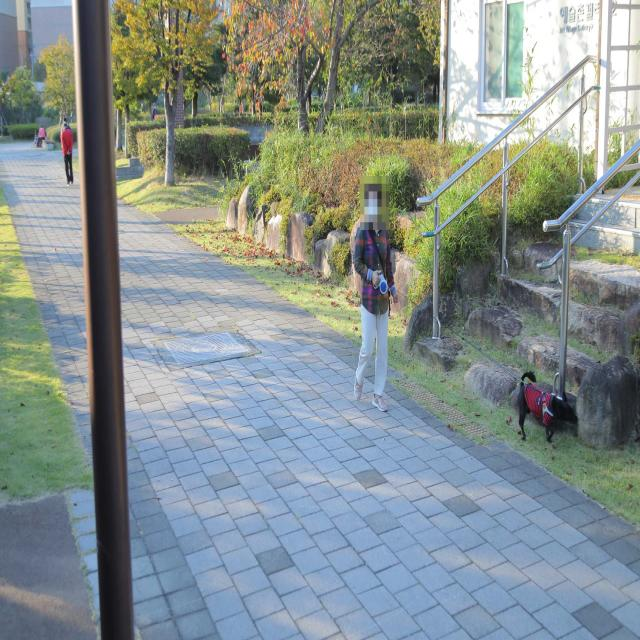Leashed_Dog: (354, 268, 578, 443)
